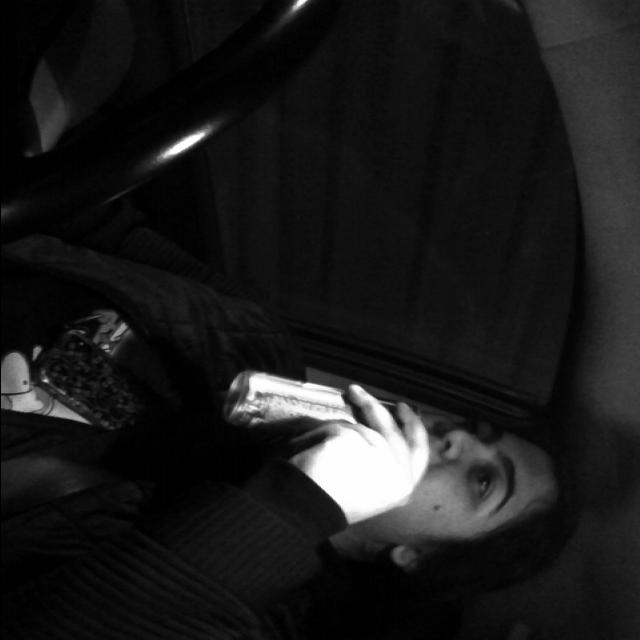drinking: (204, 356, 410, 454)
